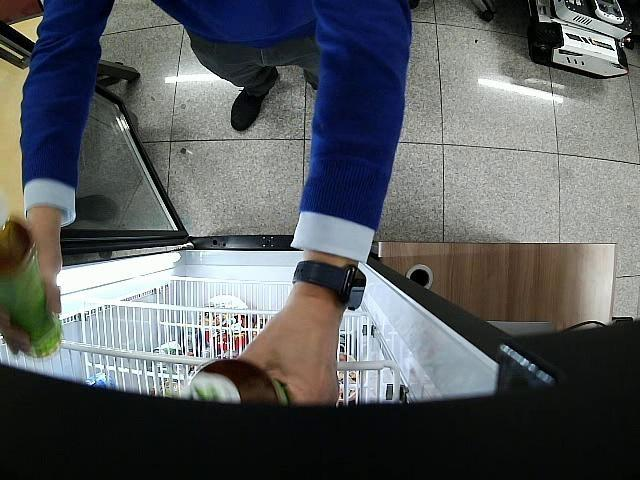19_17cha: (4, 200, 64, 360), (186, 354, 289, 404)
